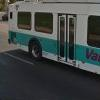Bus: (4, 0, 100, 75)
